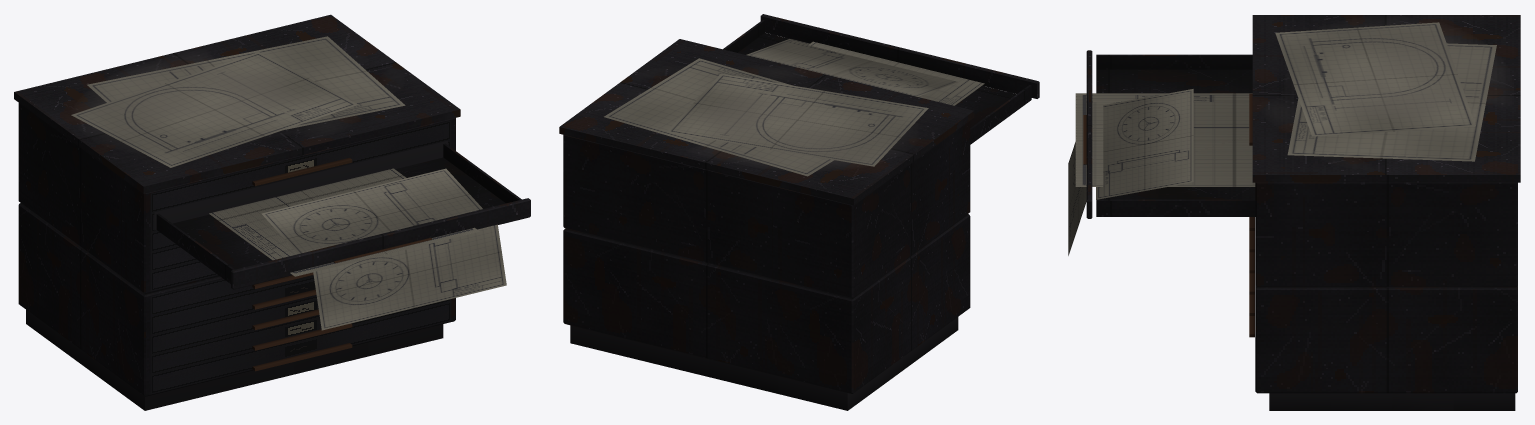
File: plan_chest_open.glb
3 renders of one model, left to right at view 1: azimuth 30°, elevation 25°; view 2: azimuth 150°, elevation 25°; view 3: azimuth 270°, elevation 25°, orthographic. The views are drawn at different scales.
Parts seen in each view (by area): view 1: panels, body, decals; view 2: body, panels, decals; view 3: body, panels, decals.
Boxes of the visible parts, x1,y1,x2,y2 form: panels: [71, 36, 506, 394]; body: [14, 14, 530, 410]; decals: [87, 60, 301, 137]; body: [559, 14, 1039, 410]; panels: [604, 39, 984, 176]; decals: [699, 94, 896, 166]; body: [1083, 15, 1520, 410]; panels: [1068, 22, 1496, 255]; decals: [1337, 26, 1499, 120].
Size of what is drawn, in the model's own units: 1.37 by 0.969 by 1.64.
10 materials, 8 textured.
